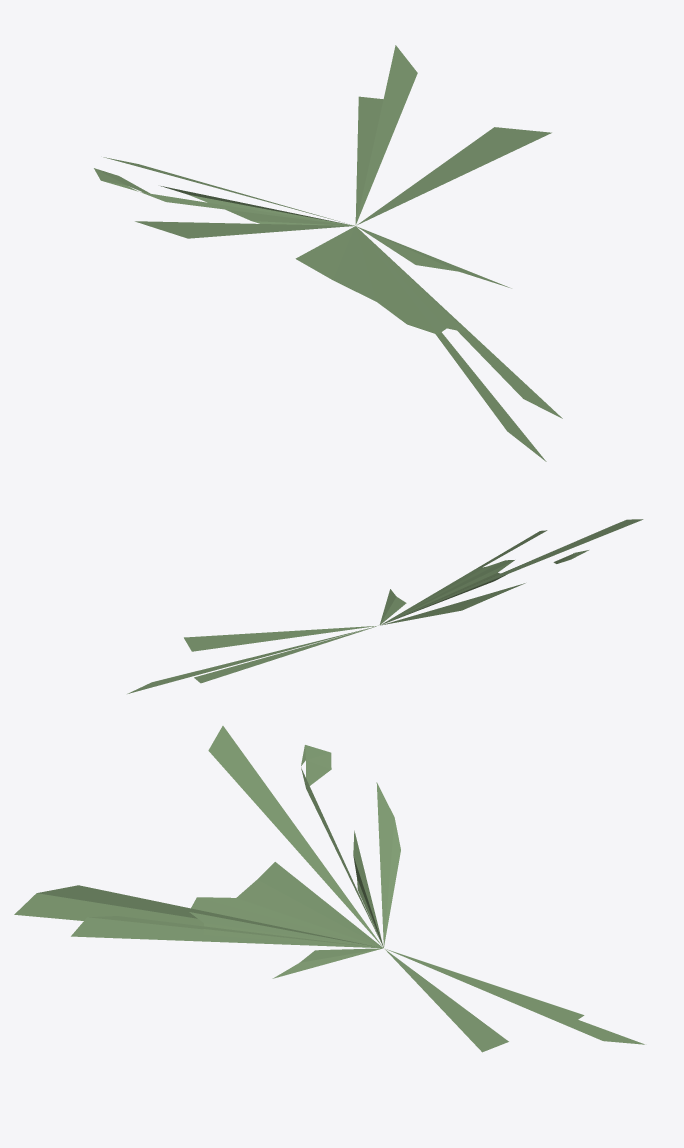
Rendered from c_1667_17814_parks.glb.
The picture shows the model from 3 angles, top to bottom: view 1: azimuth 30°, elevation 25°; view 2: azimuth 150°, elevation 25°; view 3: azimuth 270°, elevation 25°; orthographic projection. The views are drawn at different scales.
Visible parts, largest first — view 1: geometry_0; view 2: geometry_0; view 3: geometry_0.
Boxes of the visible parts, left/top/right/bottom form: geometry_0: left=94, top=45, right=562, bottom=461; geometry_0: left=127, top=519, right=643, bottom=693; geometry_0: left=14, top=726, right=644, bottom=1052.
Size of the model in its own units: 373 by 107 by 407.
